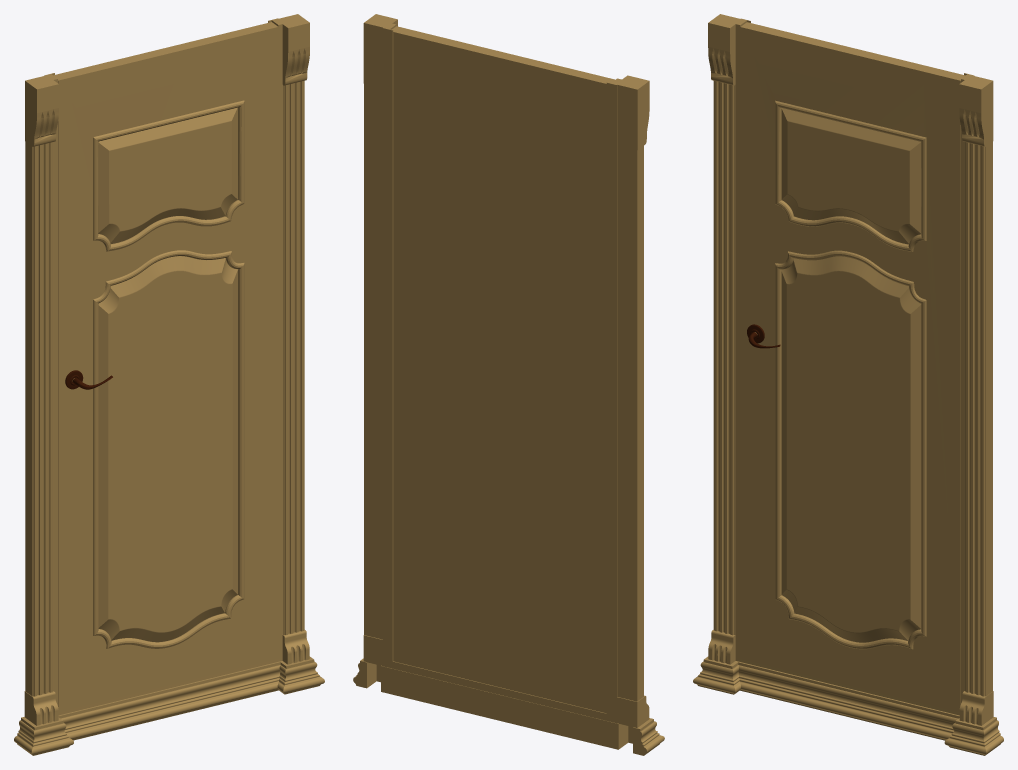
The model's file is door.FBX.
3 views of the same model, side by side, from view 1: azimuth 30°, elevation 25°; view 2: azimuth 150°, elevation 25°; view 3: azimuth 330°, elevation 25° (orthographic).
Visible parts, largest first — view 1: Rectangle149; view 2: Rectangle149; view 3: Rectangle149.
Part boxes in pixels (box(x1,y1,x2,y2)): Rectangle149: box(14, 14, 324, 755); Rectangle149: box(353, 14, 664, 755); Rectangle149: box(693, 14, 1003, 755).
Bounding box in the file's own units: 31.25 × 67.46 × 3.28.
